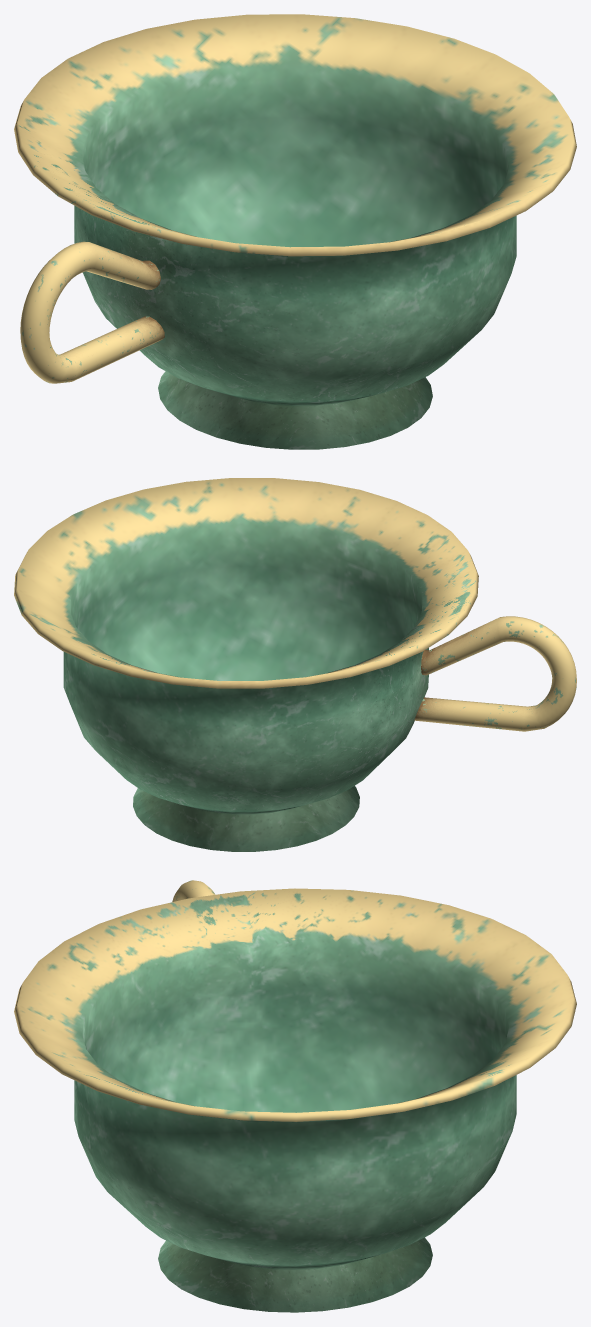
3 renders of one model, top to bottom at view 1: azimuth 30°, elevation 25°; view 2: azimuth 150°, elevation 25°; view 3: azimuth 270°, elevation 25°, orthographic. The views are drawn at different scales.
Parts seen in each view (by area): view 1: Teacup.004; view 2: Teacup.004; view 3: Teacup.004.
Boxes of the visible parts, box(x1,y1,x2,y2) form: Teacup.004: box(14, 14, 576, 449); Teacup.004: box(14, 478, 576, 851); Teacup.004: box(14, 880, 576, 1312).
Size of the model in its own units: 63.67 by 28.01 by 55.73.
